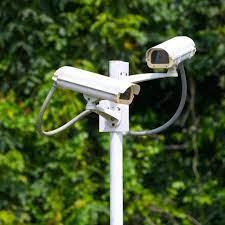tutu: (49, 63, 144, 112), (144, 33, 196, 76)
